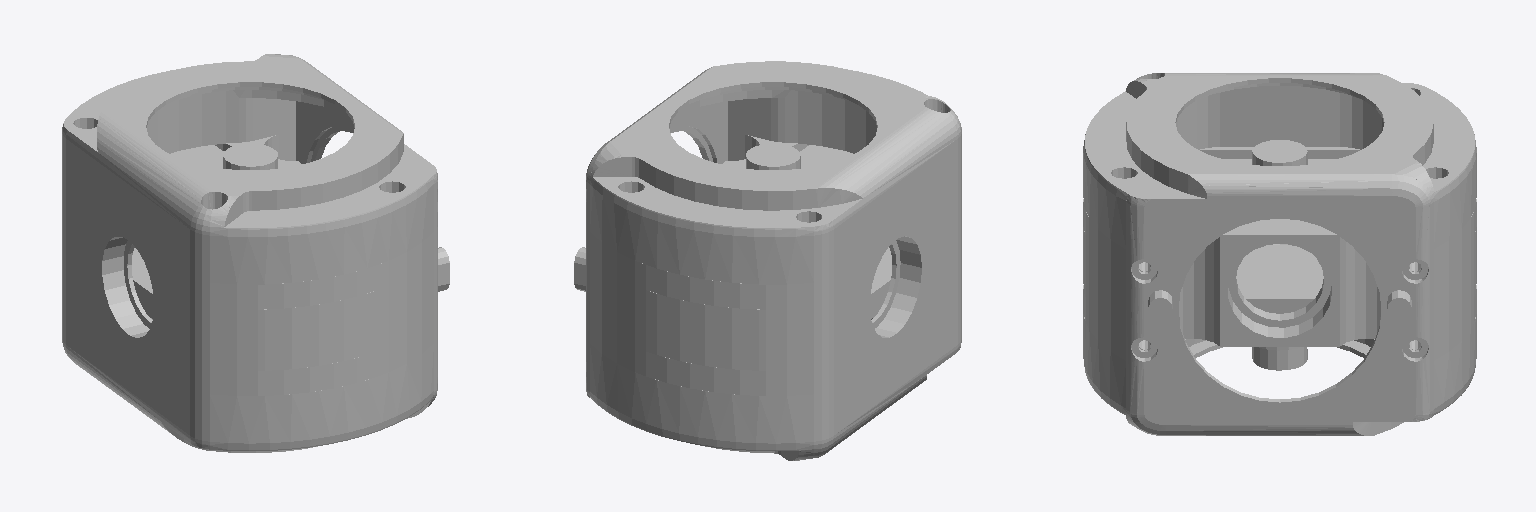
File: wristDiff_left.obj
3 renders of one model, left to right at view 1: azimuth 30°, elevation 25°; view 2: azimuth 150°, elevation 25°; view 3: azimuth 270°, elevation 25°, orthographic.
Parts seen in each view (by area): view 1: wrist_diff_right; view 2: wrist_diff_right; view 3: wrist_diff_right.
Boxes of the visible parts, x1=… form: wrist_diff_right: x1=62, y1=54, x2=449, y2=452; wrist_diff_right: x1=574, y1=61, x2=961, y2=460; wrist_diff_right: x1=1083, y1=73, x2=1476, y2=435.
Size of the model in its own units: 0.048 by 0.047 by 0.064.